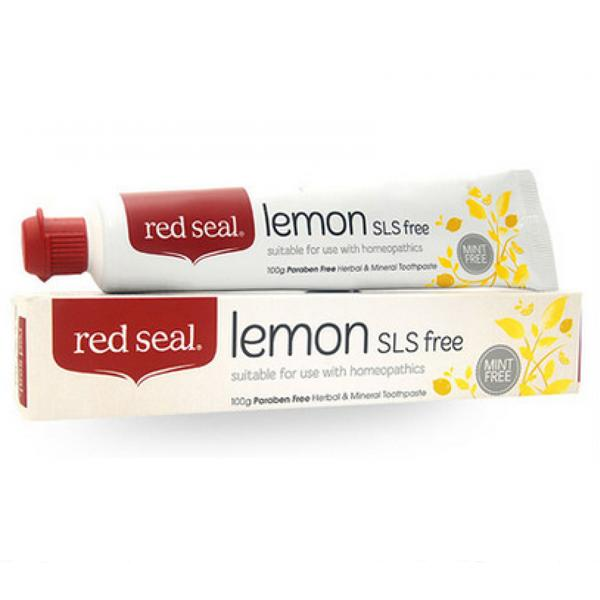toothpaste: (4, 166, 577, 292), (13, 287, 580, 407)
